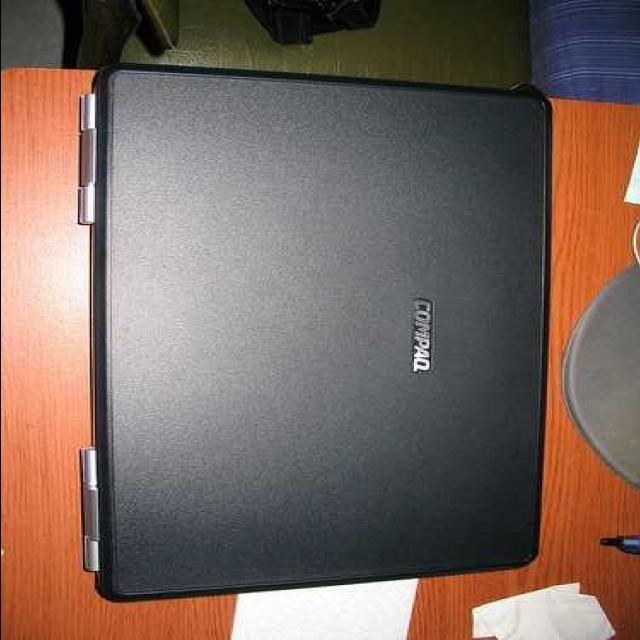laptop: (53, 73, 559, 600)
